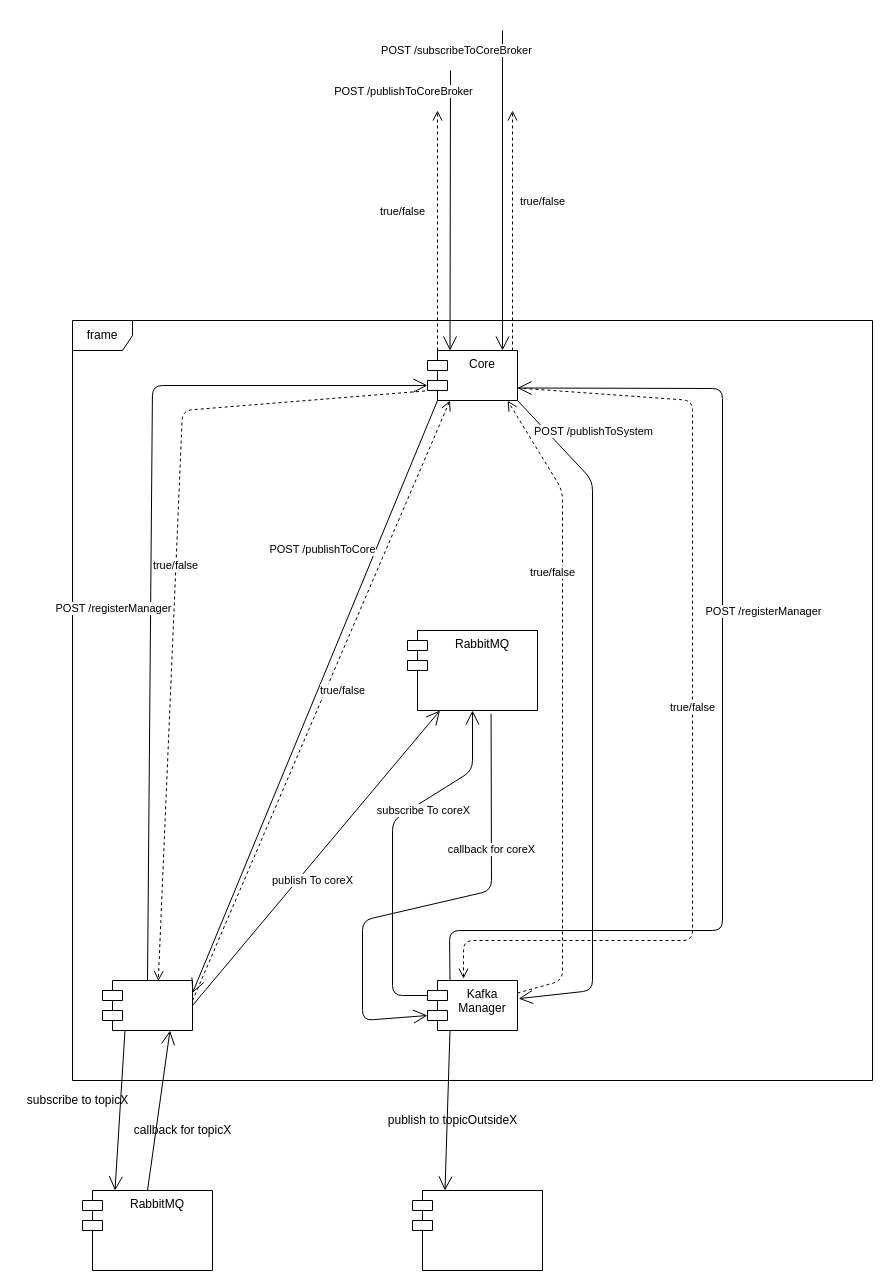
This 890x1288 diagram has some shape labels left out. Here are the shapes that lost their labels. From the top down, the box of each, then its label:
(102, 980, 192, 1030): RabbitMQ Manager
(412, 1190, 542, 1270): Kafka
